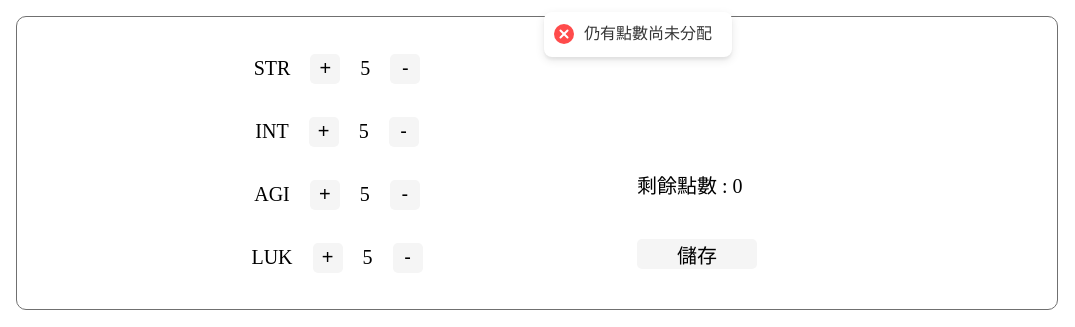
Scenario: HeroProfile component › 剩餘點數不足會跳錯
Click the button "+" next to "STR" at (325,68), box [310,54,340,84]
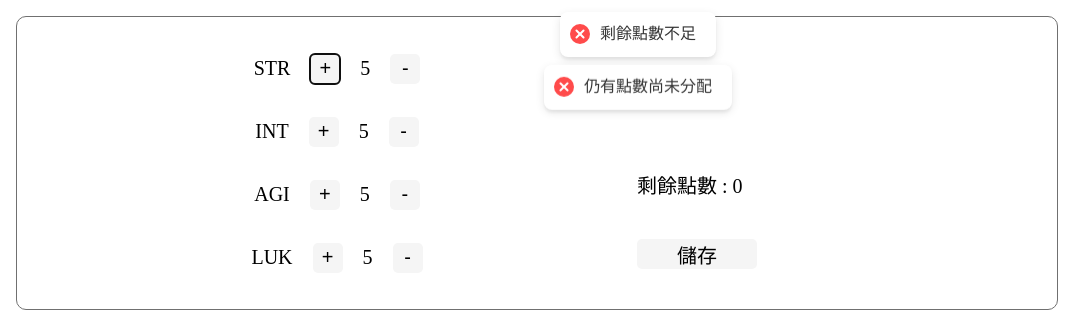
Now the text "剩餘點數不足" is shown, box [600,24,696,45]
